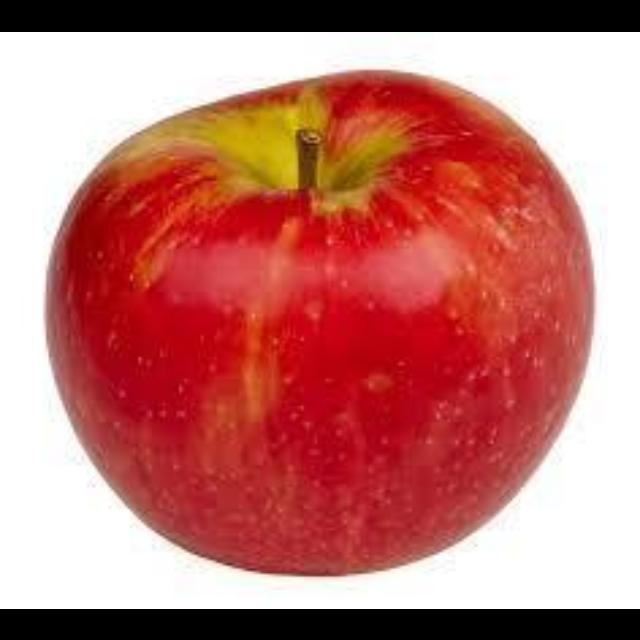apple: (46, 72, 591, 571)
